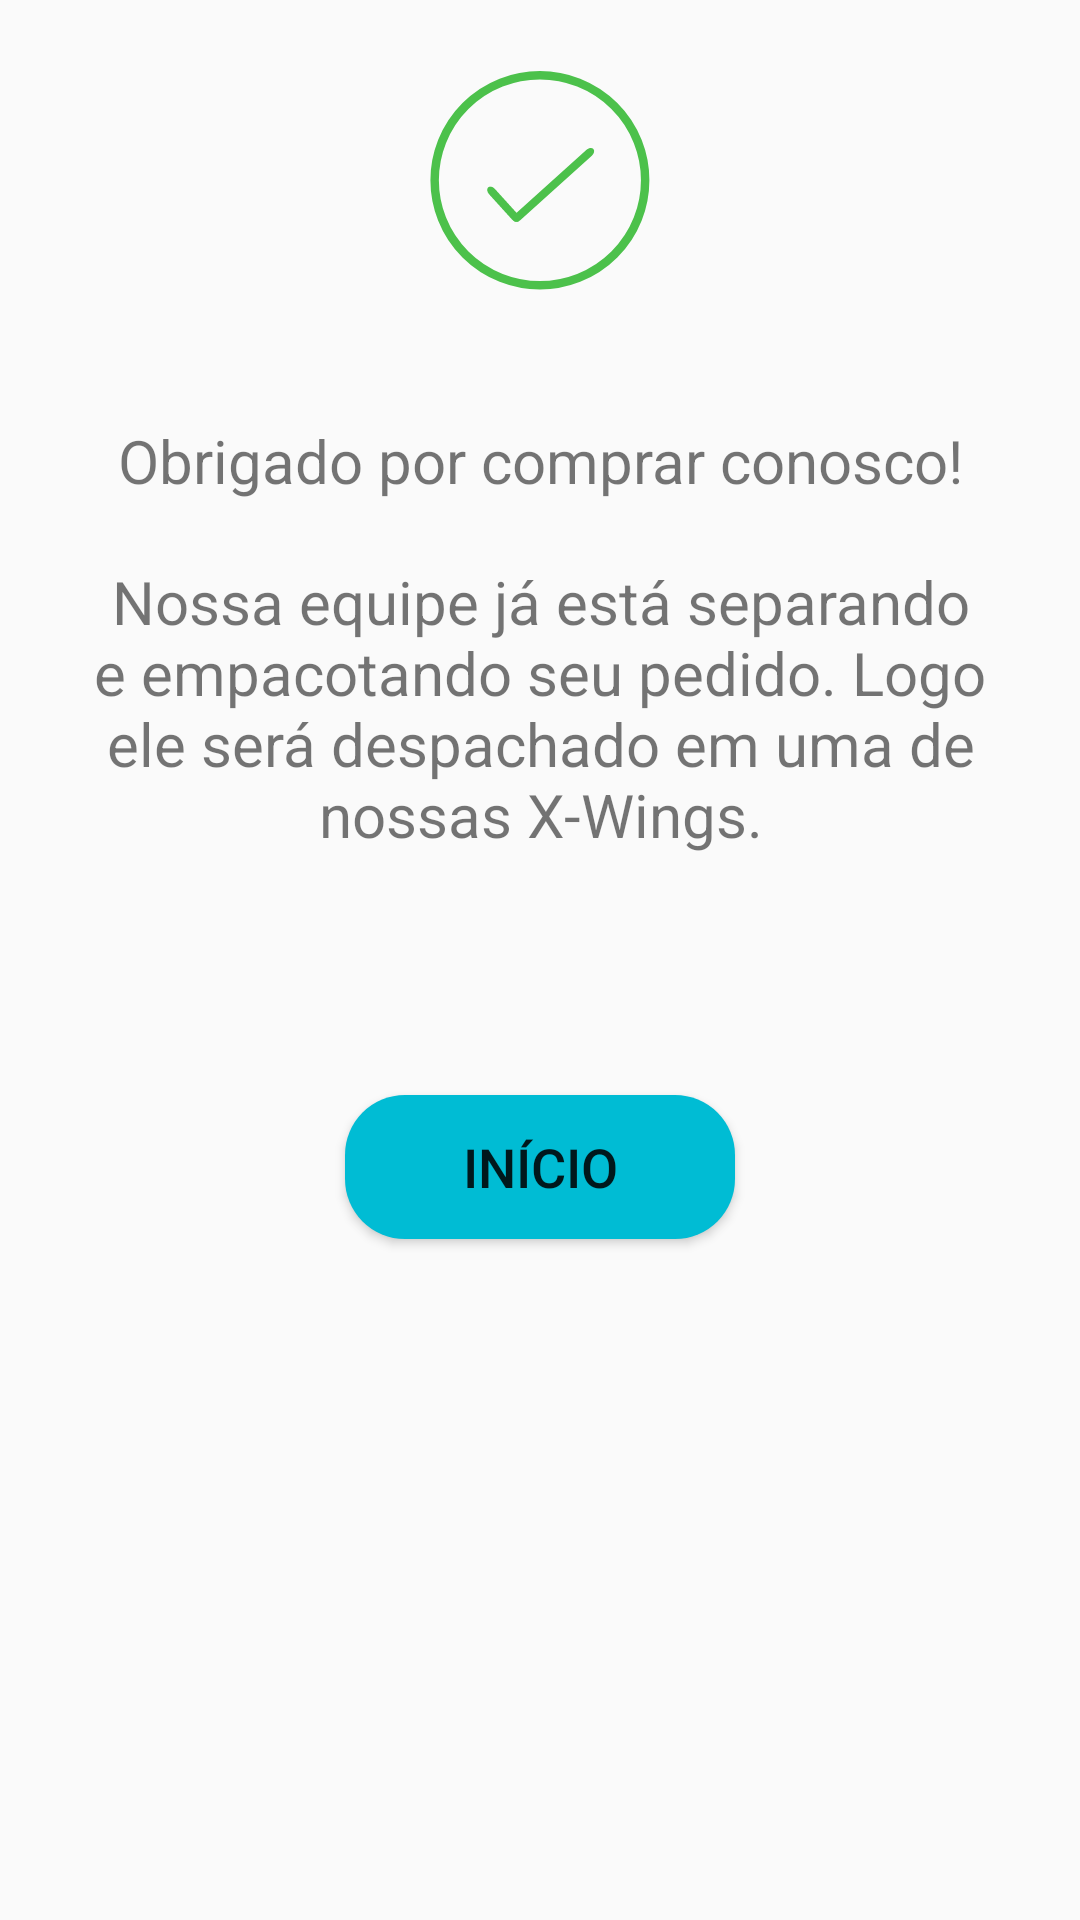

Icon click points for this 1080w x 1920h phone screenshot, format (x,y):
check circle: (540,180)
